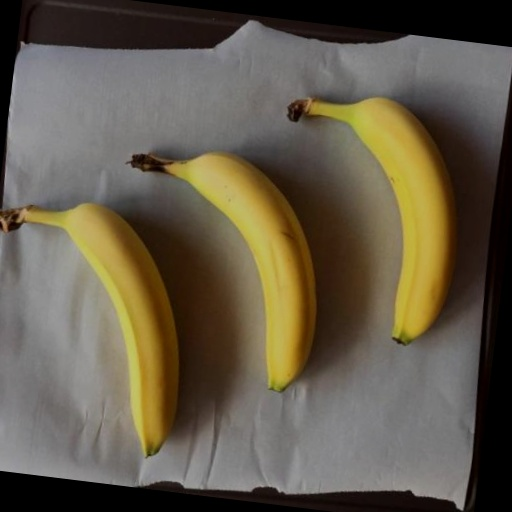fruit: (0, 204, 178, 456), (130, 152, 315, 391), (288, 98, 456, 345)
